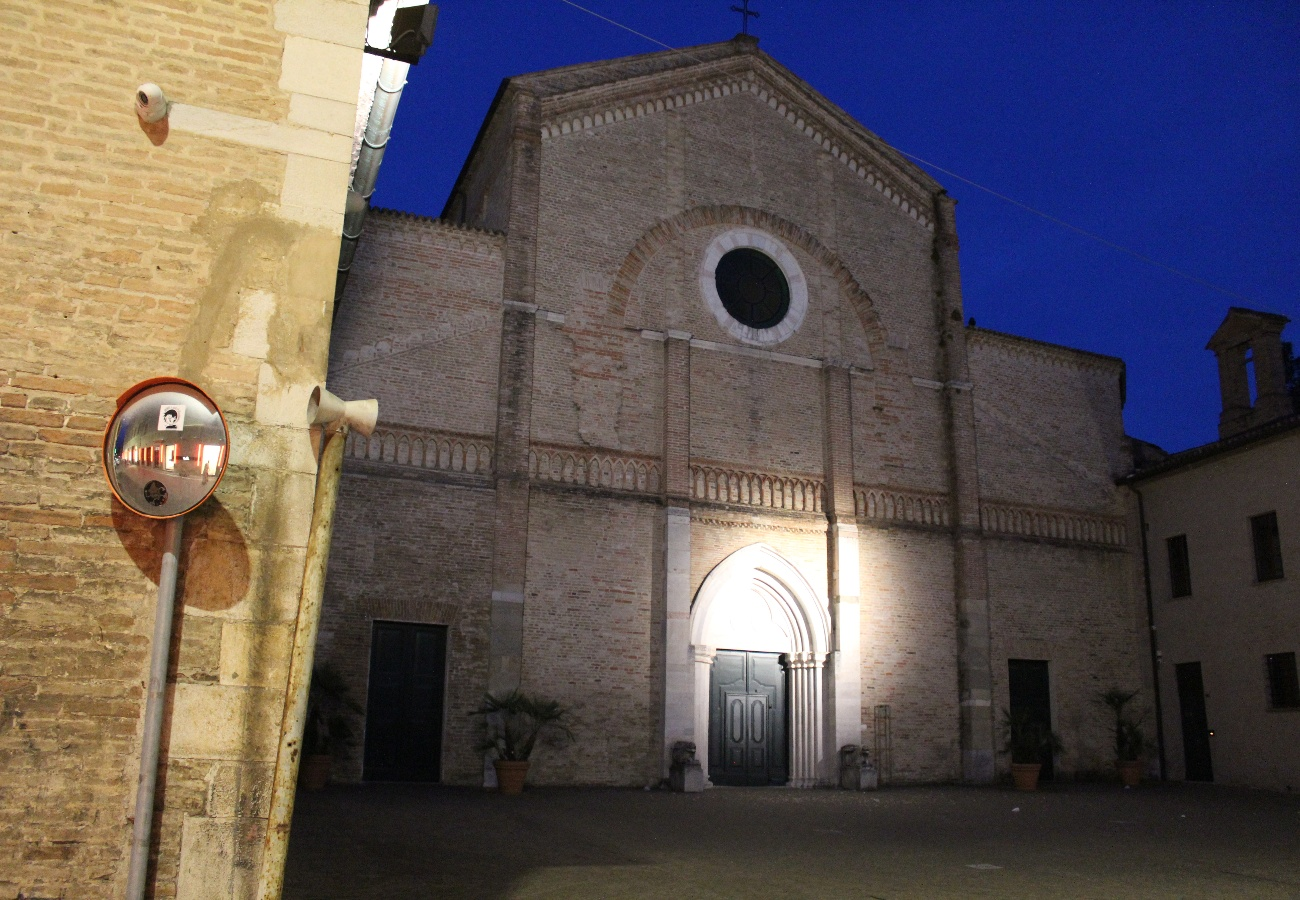Cattedrale Santa Maria Assunta: (341, 1, 1144, 813)
